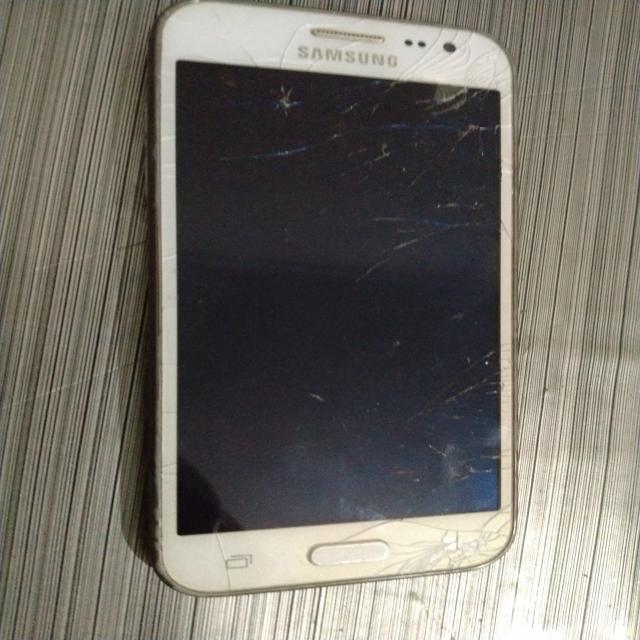Crack: (181, 22, 513, 289), (372, 285, 507, 565)
